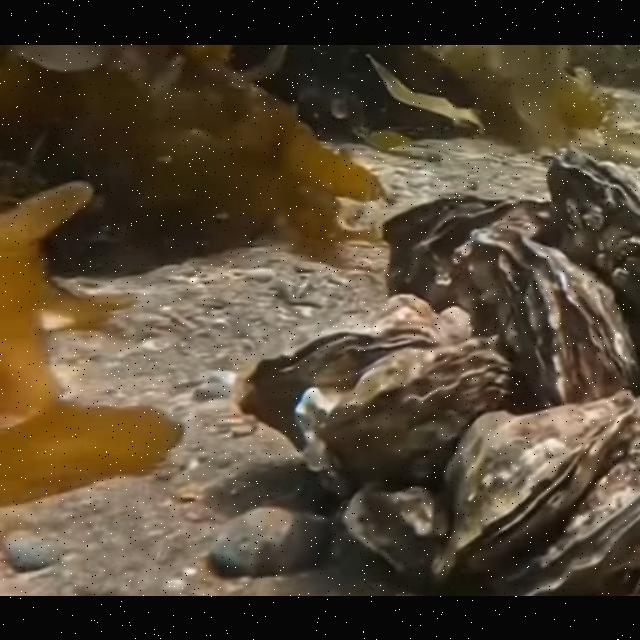Oyster-Closed: (293, 332, 513, 482), (495, 230, 640, 406)
Oyster-Open: (430, 390, 640, 574), (236, 323, 444, 452), (500, 448, 640, 596), (382, 193, 554, 311), (546, 144, 640, 322)
